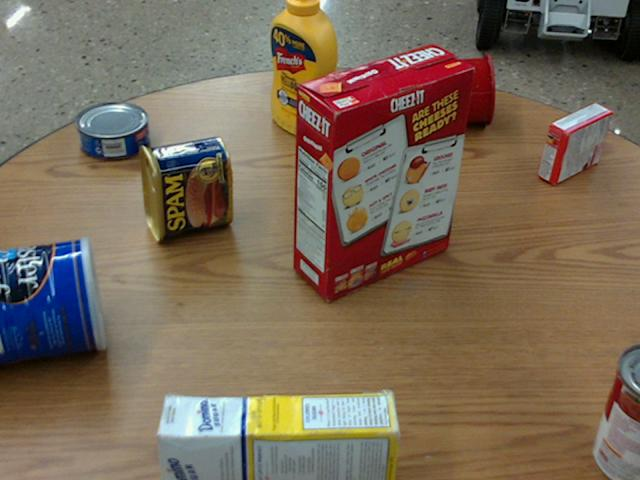cracker_box: (293, 43, 472, 299)
gelatin_box: (538, 104, 612, 185)
master_chef_can: (0, 236, 106, 363)
mug: (422, 51, 494, 124)
mustard_bottle: (269, 0, 335, 138)
potted_meat_can: (138, 135, 230, 239)
sugar_box: (152, 392, 398, 479)
tomato_soup_can: (592, 340, 639, 479)
tuna_fish_can: (76, 100, 149, 158)
